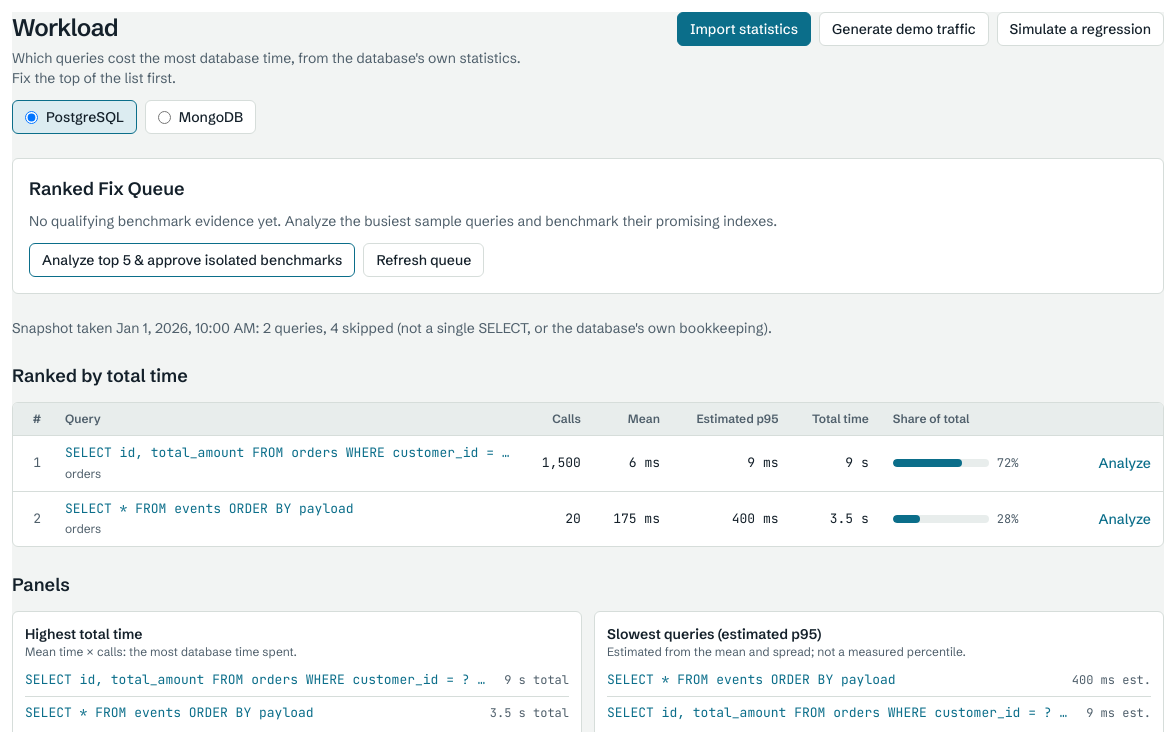
Test case: WorkloadDashboard › starts demo traffic and says to import again afterwards
This screenshot has width=1176, height=732.
Click the button "Simulate a regression": (1080, 29) [997,12,1164,46]
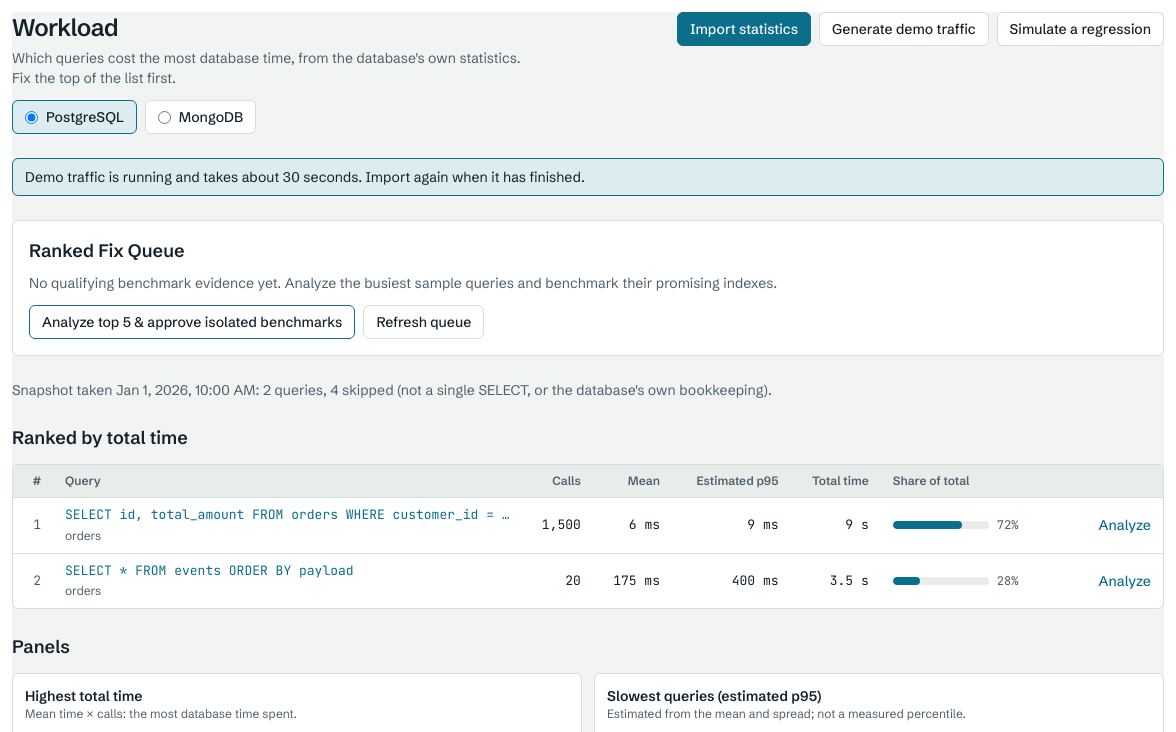
Result: the message shows "Import again" at [25,168,585,186]
